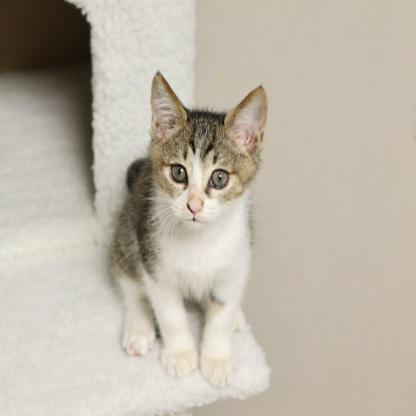cat: (111, 63, 271, 388)
